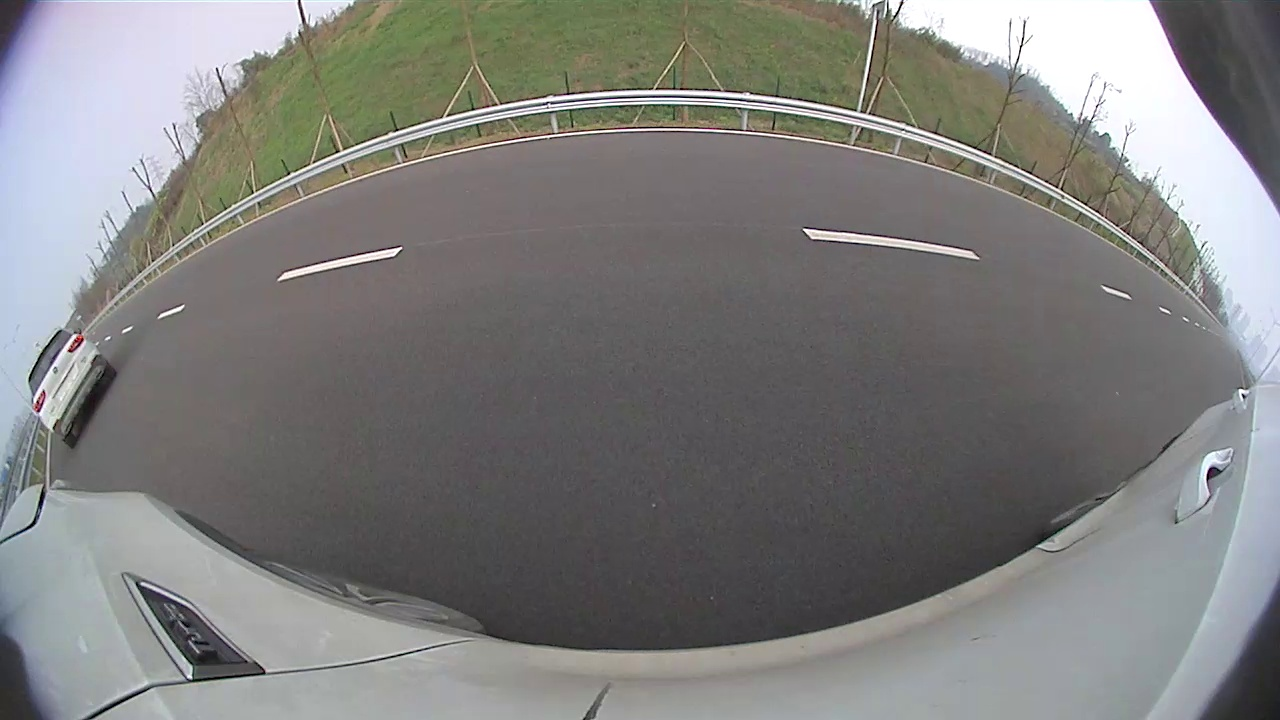car: (949, 145, 1129, 322)
front: (1088, 291, 1124, 329)
rear: (1032, 262, 1072, 307)
